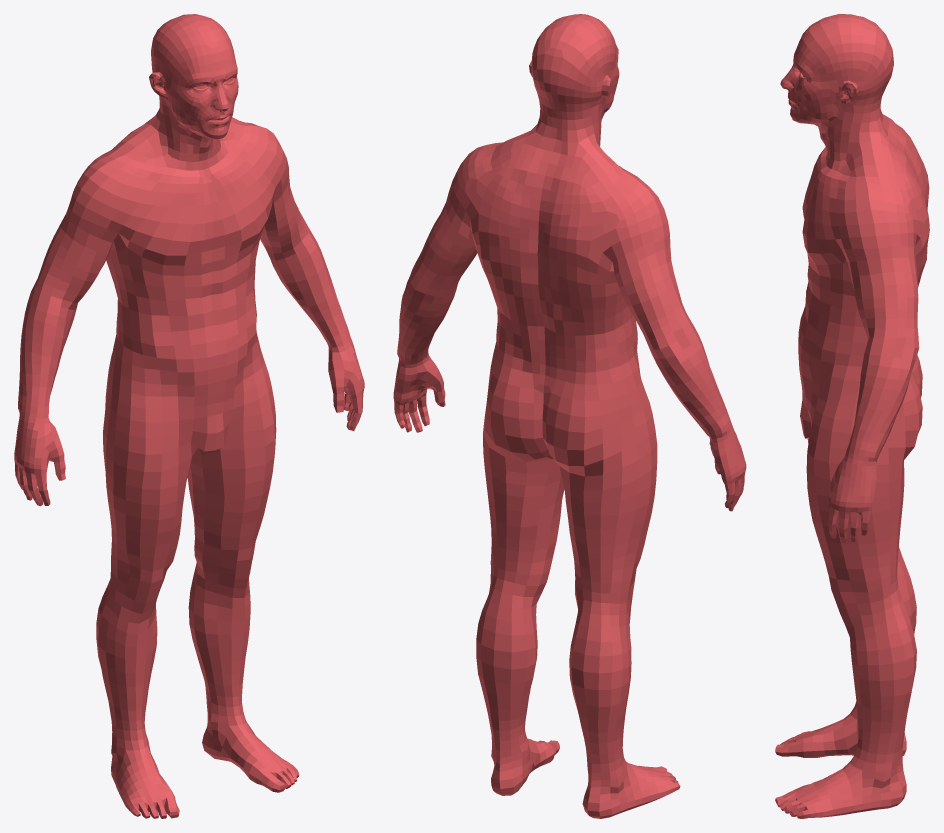
Rendered from maleMuscular.glb.
The picture shows the model from 3 angles, left to right: view 1: azimuth 30°, elevation 25°; view 2: azimuth 150°, elevation 25°; view 3: azimuth 270°, elevation 25°; orthographic projection.
Parts seen in each view (by area): view 1: muscular; view 2: muscular; view 3: muscular.
Boxes of the visible parts, x1,y1,x2,y2 form: muscular: [14, 14, 364, 818]; muscular: [393, 14, 746, 818]; muscular: [775, 14, 929, 818].
Size of the model in its own units: 33.63 by 72.02 by 13.22.
